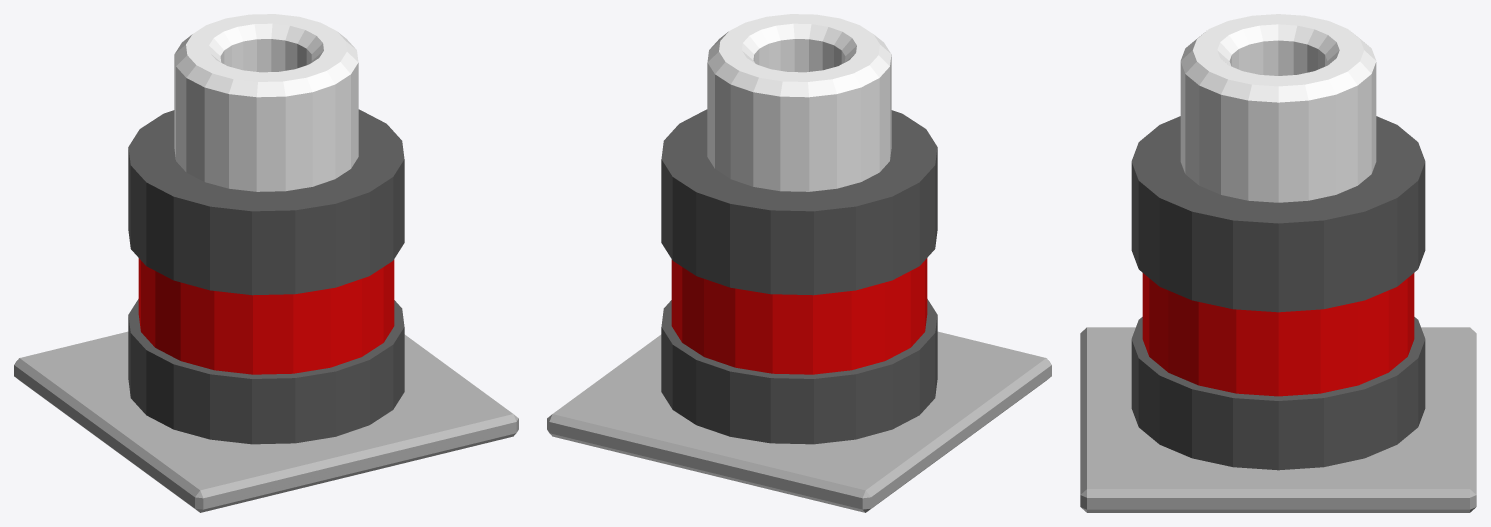
Rendered from ObstacleLaser 1.fbx.
The picture shows the model from 3 angles, left to right: view 1: azimuth 30°, elevation 25°; view 2: azimuth 150°, elevation 25°; view 3: azimuth 270°, elevation 25°; orthographic projection. The views are drawn at different scales.
Parts seen in each view (by area): view 1: pCube2; view 2: pCube2; view 3: pCube2.
Boxes of the visible parts, <box> form: pCube2: <box>14,14,518,512</box>; pCube2: <box>547,14,1051,512</box>; pCube2: <box>1080,14,1476,512</box>.
Size of the model in its own units: 10.95 by 11.64 by 10.95.
